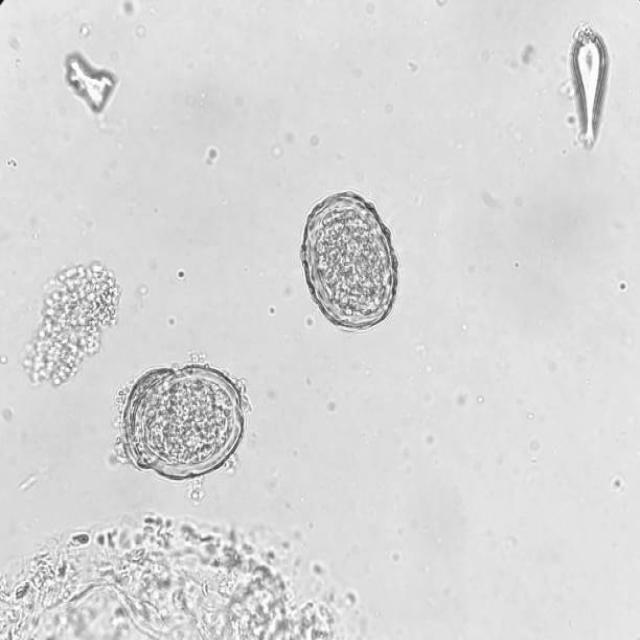Ascaris Lumbricoides: (128, 353, 252, 492), (296, 182, 403, 334)
